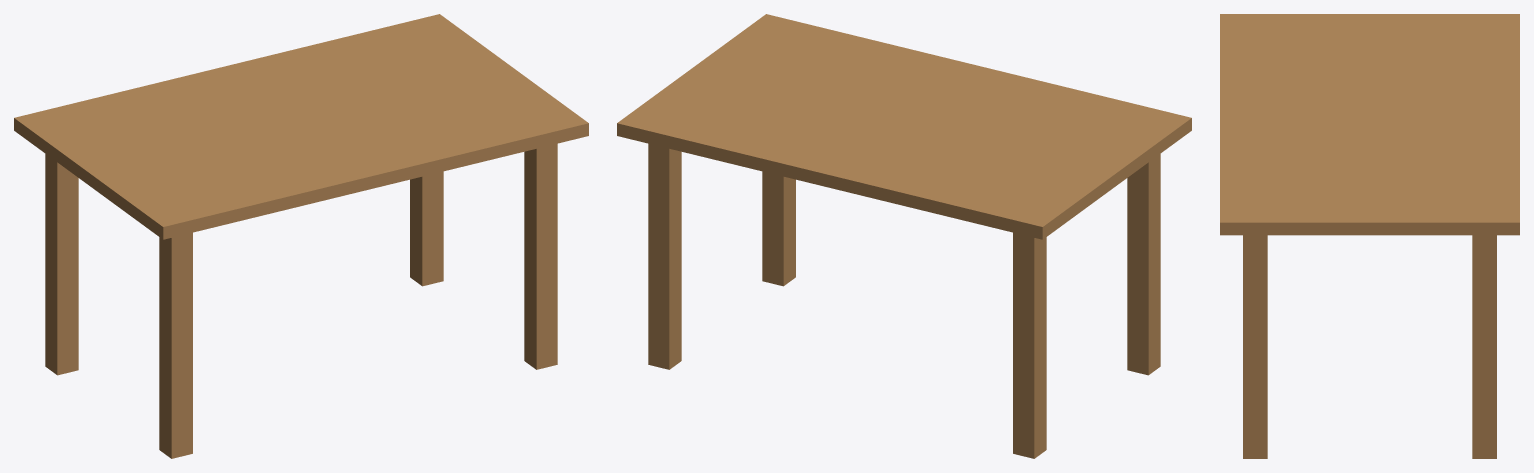
3 renders of one model, left to right at view 1: azimuth 30°, elevation 25°; view 2: azimuth 150°, elevation 25°; view 3: azimuth 270°, elevation 25°, orthographic.
Visible parts, largest first — view 1: mesa_comedor; view 2: mesa_comedor; view 3: mesa_comedor.
Boxes of the visible parts, box(x1,y1,x2,y2) form: mesa_comedor: box(14, 14, 588, 458); mesa_comedor: box(617, 14, 1191, 458); mesa_comedor: box(1220, 14, 1519, 458).
Bounding box in the file's own units: 1.4 × 0.85 × 0.77.
